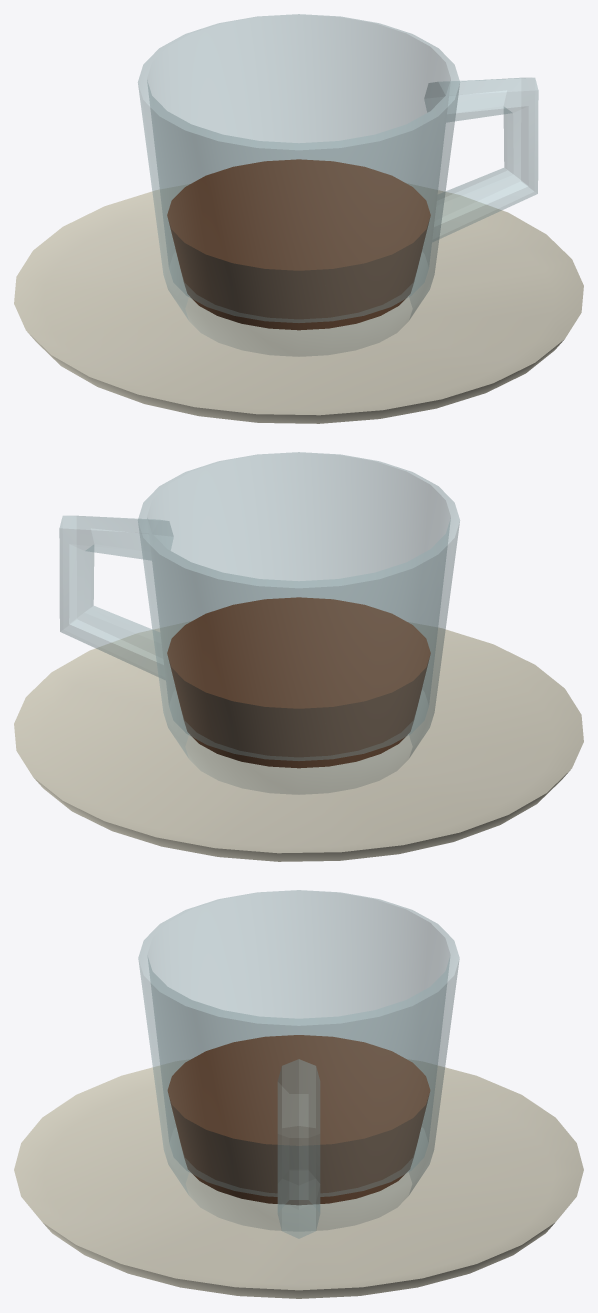
The model's file is food-milk-tea-s2.glb.
The picture shows the model from 3 angles, top to bottom: view 1: azimuth 30°, elevation 25°; view 2: azimuth 150°, elevation 25°; view 3: azimuth 270°, elevation 25°; orthographic projection.
Visible parts, largest first — view 1: mug__glass, saucer__ceramic, liquid__sauce; view 2: mug__glass, saucer__ceramic, liquid__sauce; view 3: mug__glass, saucer__ceramic, liquid__sauce.
Part boxes in pixels (left/top/right/bottom): mug__glass: left=138, top=14, right=538, bottom=356; saucer__ceramic: left=14, top=183, right=583, bottom=423; liquid__sauce: left=167, top=159, right=430, bottom=330; mug__glass: left=59, top=452, right=459, bottom=794; saucer__ceramic: left=14, top=621, right=583, bottom=861; liquid__sauce: left=167, top=597, right=430, bottom=768; mug__glass: left=138, top=890, right=459, bottom=1238; saucer__ceramic: left=14, top=1059, right=583, bottom=1298; liquid__sauce: left=167, top=1035, right=430, bottom=1204.
Size of the model in its own units: 0.156 by 0.077 by 0.156.
